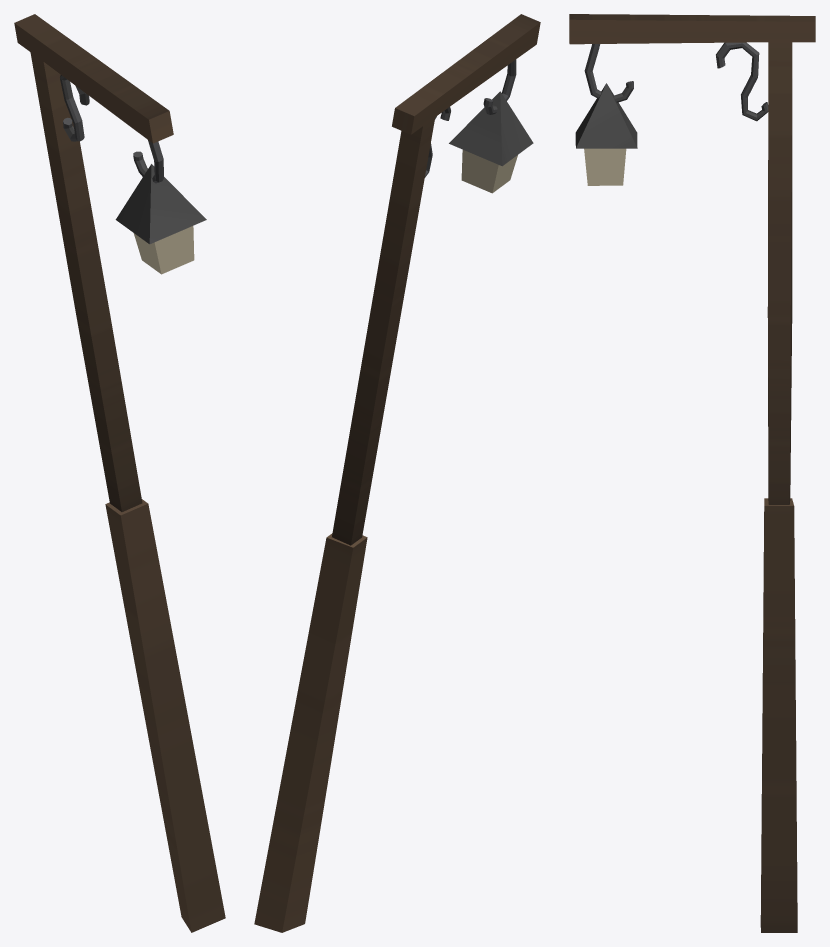
The model's file is ea_exterior_lamp_wooden_01a_pre__5__lev1.glb.
3 views of the same model, side by side, from view 1: azimuth 30°, elevation 25°; view 2: azimuth 150°, elevation 25°; view 3: azimuth 270°, elevation 25° (orthographic). The views are drawn at different scales.
Visible parts, largest first — view 1: ea_exterior_lamp_wooden_01a_pre__5__lev1; view 2: ea_exterior_lamp_wooden_01a_pre__5__lev1; view 3: ea_exterior_lamp_wooden_01a_pre__5__lev1.
Part boxes in pixels (box(x1,y1,x2,y2)): ea_exterior_lamp_wooden_01a_pre__5__lev1: box(14, 14, 225, 932); ea_exterior_lamp_wooden_01a_pre__5__lev1: box(254, 14, 540, 932); ea_exterior_lamp_wooden_01a_pre__5__lev1: box(569, 14, 815, 932).
Size of the model in its own units: 0.8448 by 4.13 by 1.09.
1 material, 1 textured.
